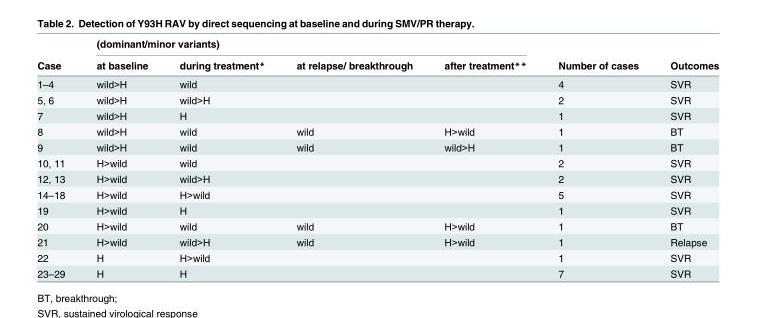table: (36, 37, 718, 278)
table column: (280, 37, 427, 278), (163, 37, 280, 278), (427, 37, 541, 278), (541, 37, 653, 278), (80, 37, 163, 278), (653, 37, 718, 278), (36, 37, 80, 278)
table column header: (36, 37, 718, 74)
table row: (36, 53, 718, 74), (36, 74, 718, 91), (36, 37, 718, 53), (36, 91, 718, 107), (36, 107, 718, 123), (36, 123, 718, 139), (36, 154, 718, 170), (36, 170, 718, 186), (36, 186, 718, 202), (36, 217, 718, 233), (36, 233, 718, 249), (36, 249, 718, 265), (36, 139, 718, 154), (36, 202, 718, 217), (36, 265, 718, 278)
table spanning cell: (80, 37, 541, 53), (541, 37, 653, 74), (653, 37, 718, 74), (36, 37, 80, 74)
